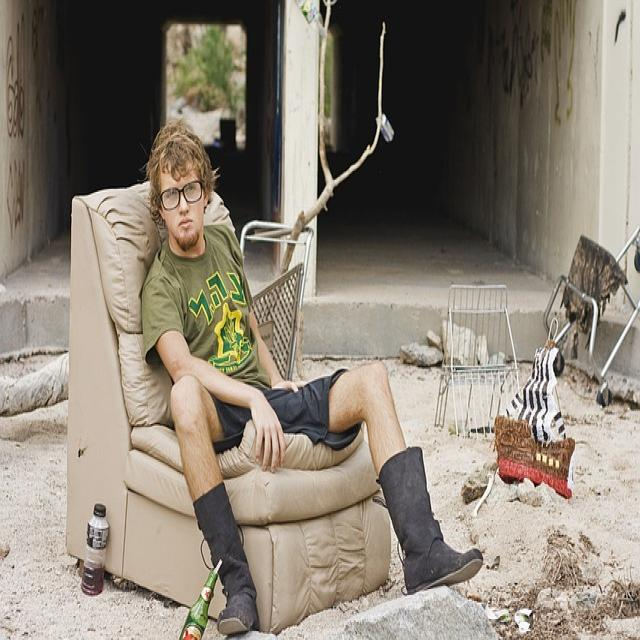Real human 2: (125, 102, 489, 625)
